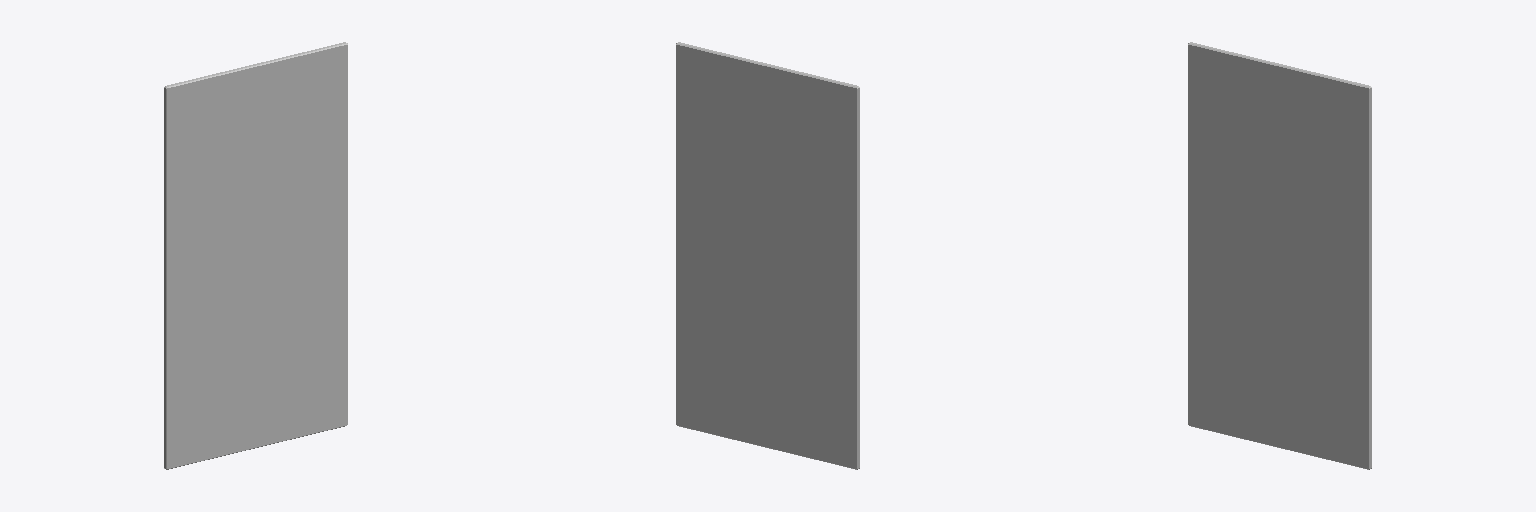
File: panel_4x8.obj
The picture shows the model from 3 angles: view 1: azimuth 30°, elevation 25°; view 2: azimuth 150°, elevation 25°; view 3: azimuth 330°, elevation 25°; orthographic projection.
Parts seen in each view (by area): view 1: 4x8_white_geo_Plane.011; view 2: 4x8_white_geo_Plane.011; view 3: 4x8_white_geo_Plane.011.
Part boxes in pixels (x1,y1,x2,y2): 4x8_white_geo_Plane.011: (164, 42, 347, 469); 4x8_white_geo_Plane.011: (676, 42, 859, 469); 4x8_white_geo_Plane.011: (1188, 42, 1371, 469).
Bounding box in the file's own units: 3.98 × 7.98 × 0.1.